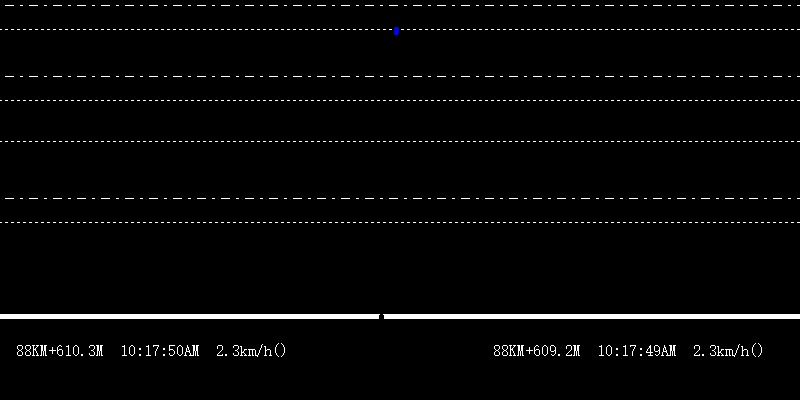face_1: (390, 25, 401, 38)
